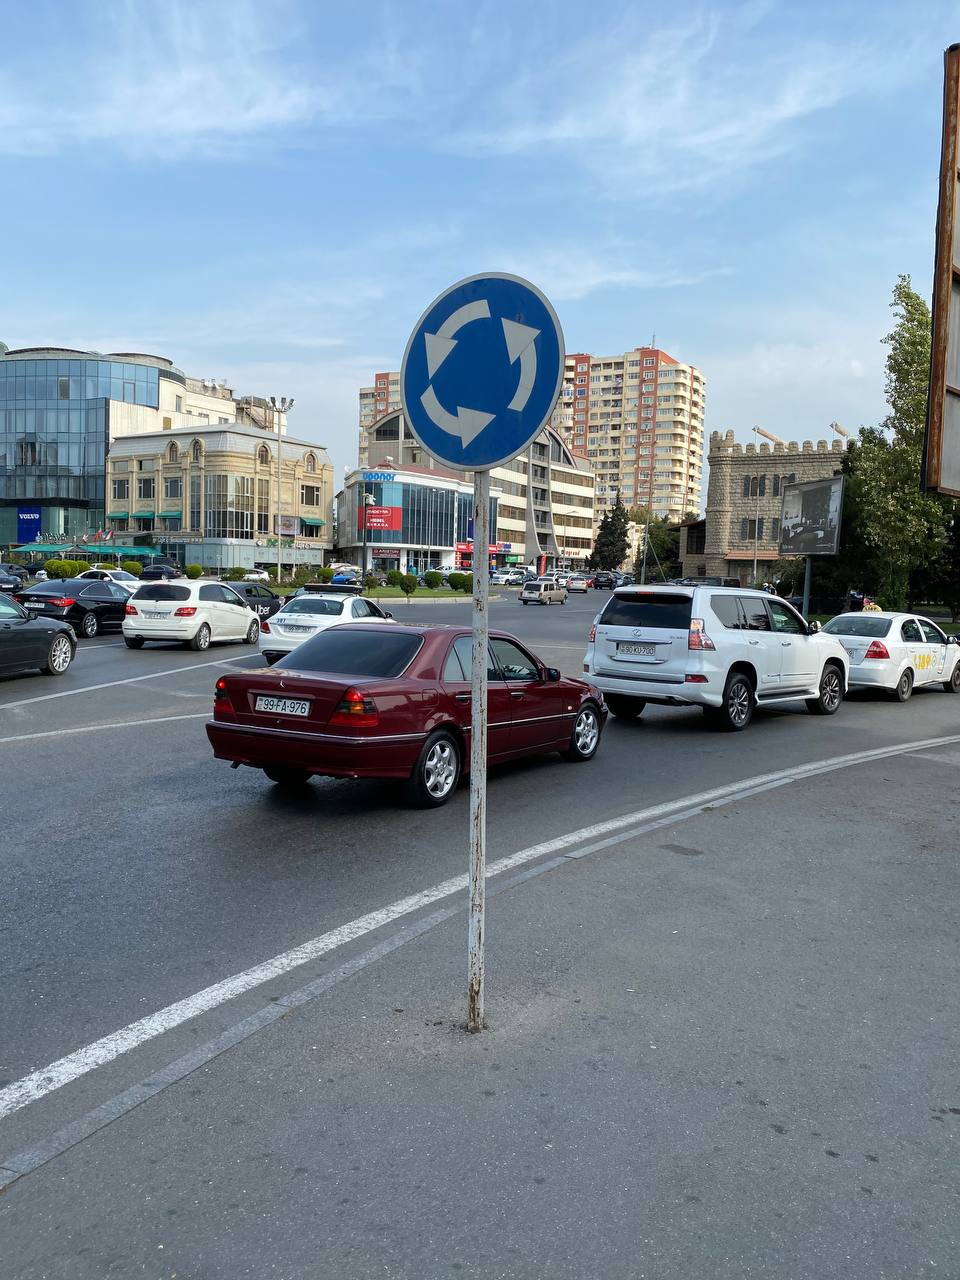Round-About: (400, 272, 565, 471)
